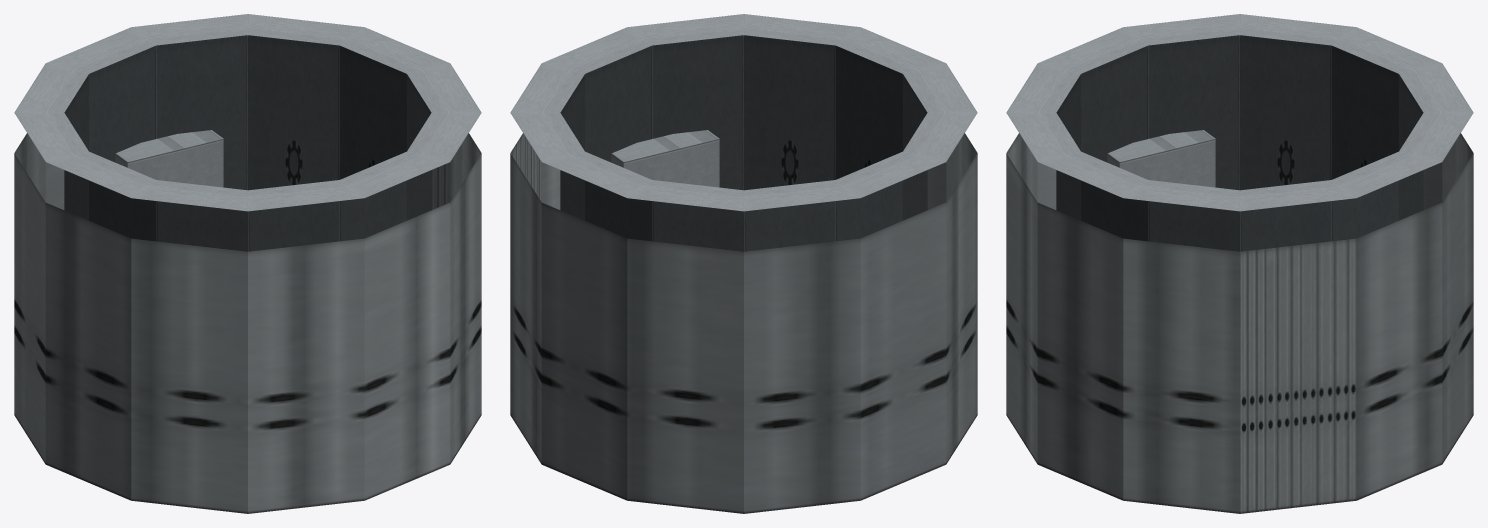
File: washer_drum.glb
The picture shows the model from 3 angles, left to right: view 1: azimuth 30°, elevation 25°; view 2: azimuth 150°, elevation 25°; view 3: azimuth 270°, elevation 25°; orthographic projection.
Visible parts, largest first — view 1: core_washer_drum; view 2: core_washer_drum; view 3: core_washer_drum.
Part boxes in pixels (<box>): core_washer_drum: <box>14,14,481,513</box>; core_washer_drum: <box>510,14,977,513</box>; core_washer_drum: <box>1006,14,1473,513</box>.
Size of the model in its own units: 0.42 by 0.3 by 0.42.
1 material, 1 textured.
